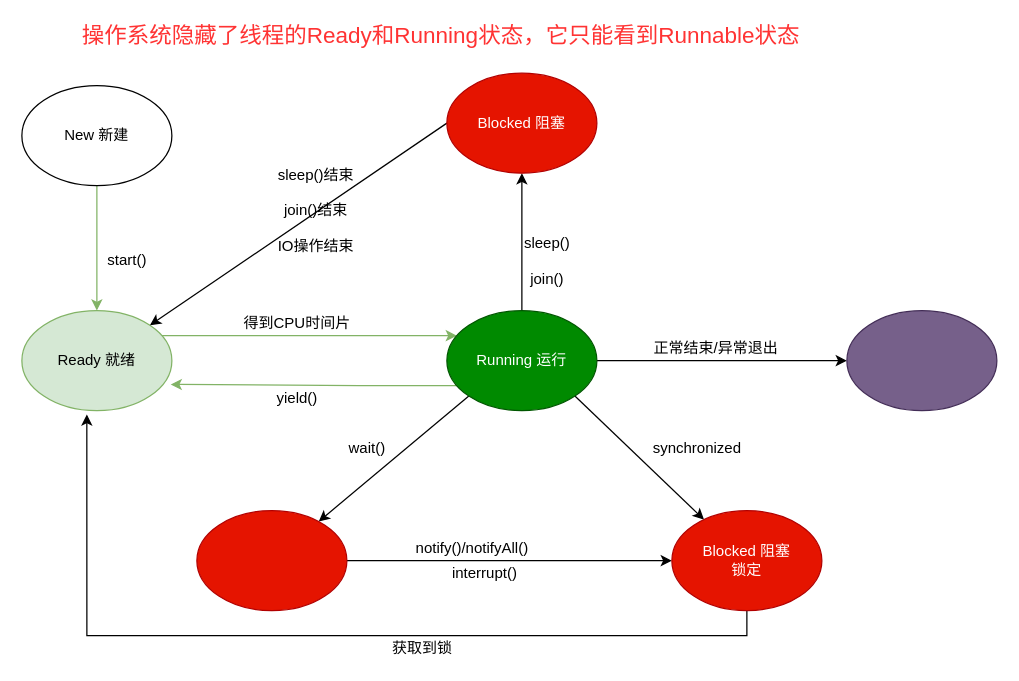
This 1019x681 diagram has some shape labels left out. The centre of each missing label's shape, as x and y in pixels:
"Blocked 阻塞 等待" belongs at point (271, 560).
"Terminated 终止" belongs at point (921, 360).
